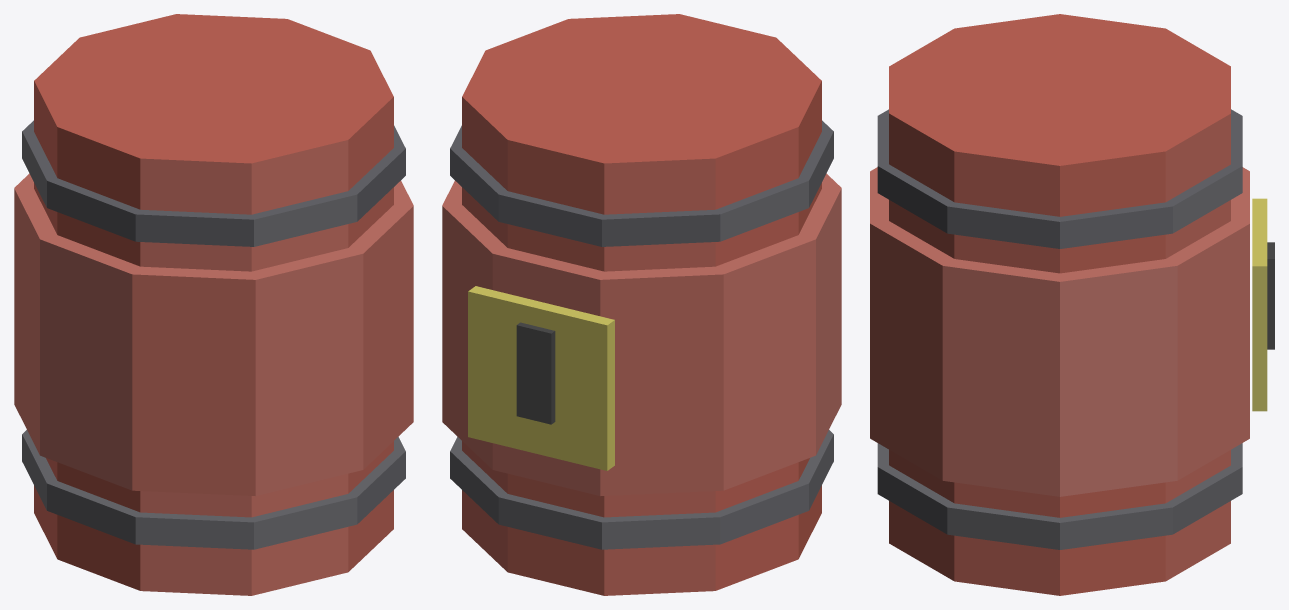
File: explosive_barrel.glb
3 renders of one model, left to right at view 1: azimuth 30°, elevation 25°; view 2: azimuth 150°, elevation 25°; view 3: azimuth 270°, elevation 25°, orthographic.
Parts seen in each view (by area): view 1: explosive_barrel2; view 2: explosive_barrel2; view 3: explosive_barrel2.
Part boxes in pixels (box(x1,y1,x2,y2)): explosive_barrel2: box(14, 14, 413, 595); explosive_barrel2: box(442, 14, 841, 595); explosive_barrel2: box(870, 14, 1274, 595).
Bounding box in the file's own units: 0.8 × 0.95 × 0.8104.
